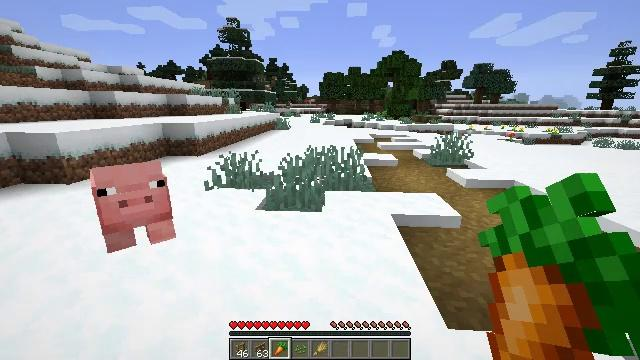pig: (91, 161, 177, 254)
